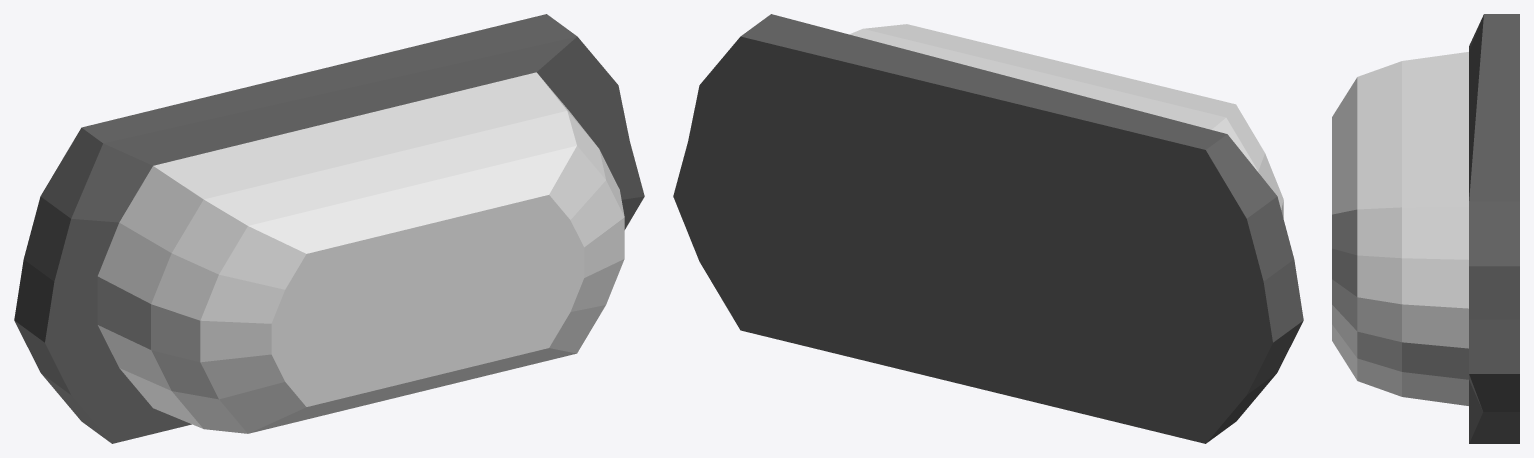
File: Wh_Wall_Lamp_01.fbx
3 views of the same model, side by side, from view 1: azimuth 30°, elevation 25°; view 2: azimuth 150°, elevation 25°; view 3: azimuth 270°, elevation 25° (orthographic). The views are drawn at different scales.
Parts seen in each view (by area): view 1: Cube.1025; view 2: Cube.1025; view 3: Cube.1025.
Part boxes in pixels (x1,y1,x2,y2): Cube.1025: (14,14,644,443); Cube.1025: (673,14,1303,443); Cube.1025: (1332,14,1519,443).
Bounding box in the file's own units: 40.72 × 19.07 × 13.37.
